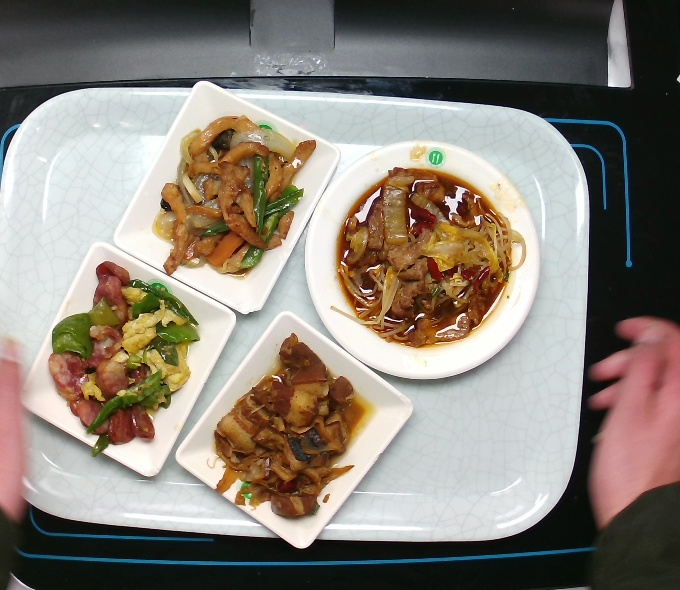wcq-HongShaoRou: (208, 331, 361, 520)
wcq-QingJiaoJiDanChaoDaChang: (43, 257, 203, 459)
wcq-QingJiaoRouSi: (148, 112, 319, 279)
wcq-ShuiZhuRouPian: (328, 163, 531, 350)
